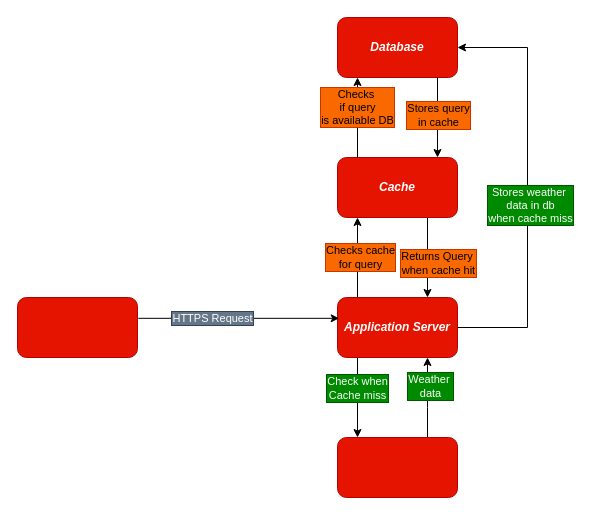
The diagram is 590 pixels wide and 515 high, and some of its shapes have lost their labels. The box of each missing label's shape, as (x1, y1, x2, y2) in pixels:
Client: (16, 296, 138, 358)
Weather API: (336, 436, 458, 498)
